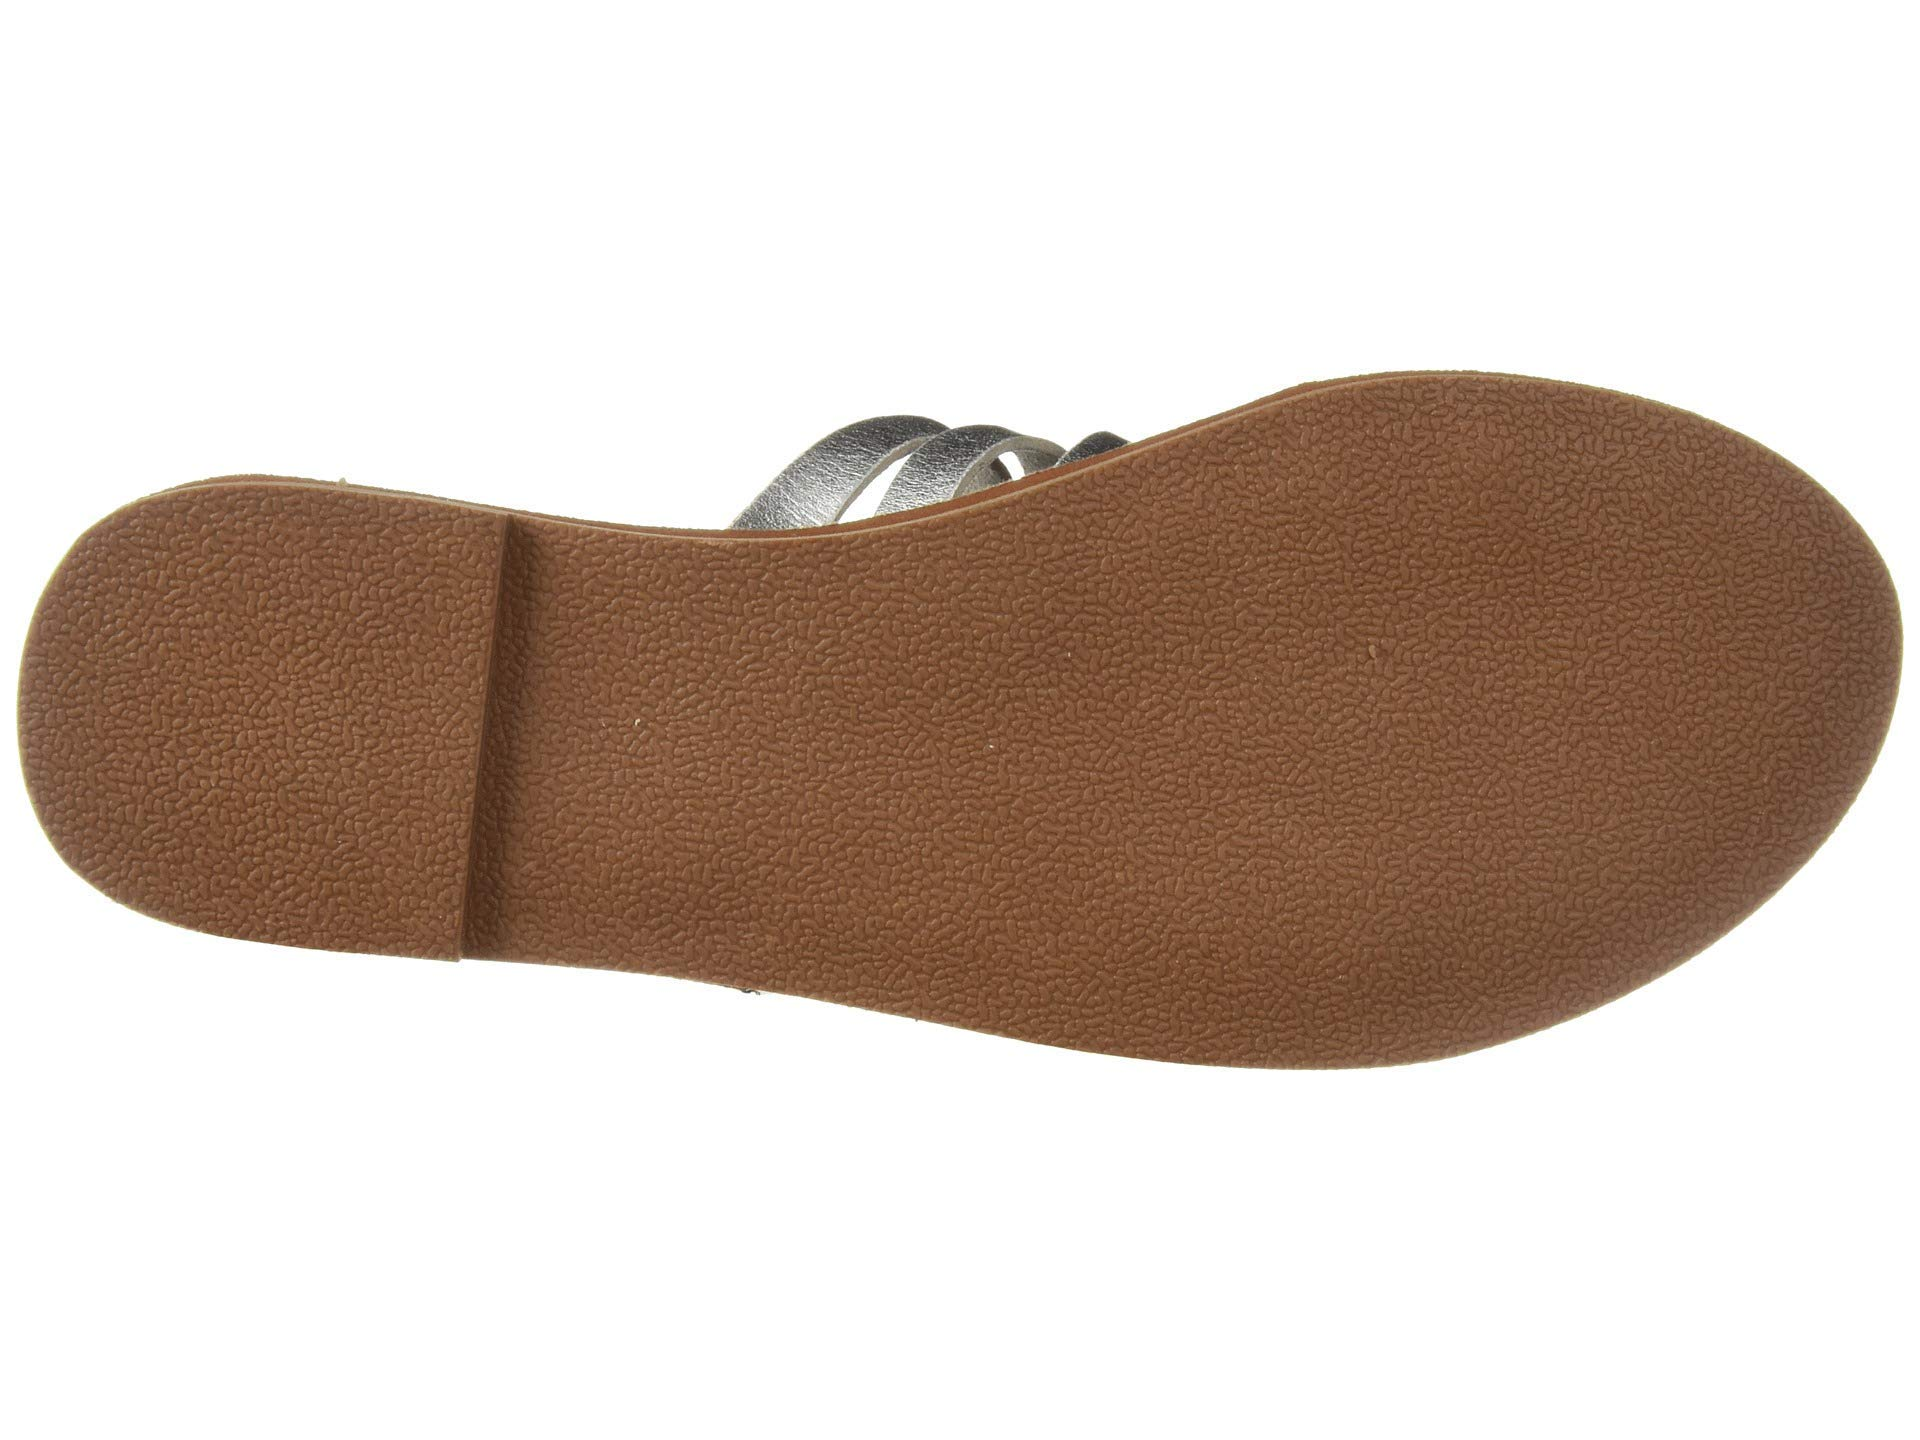other: (588, 561, 1150, 1016), (1215, 489, 1683, 951), (86, 519, 460, 920), (1702, 517, 1834, 818)
